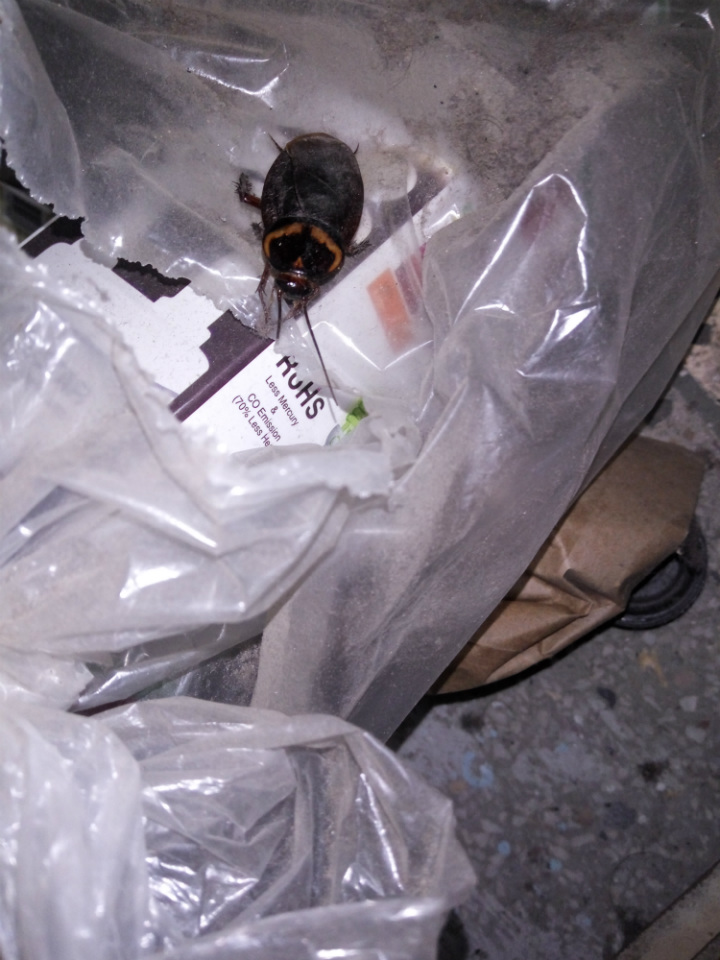cockroach: (150, 81, 460, 430)
